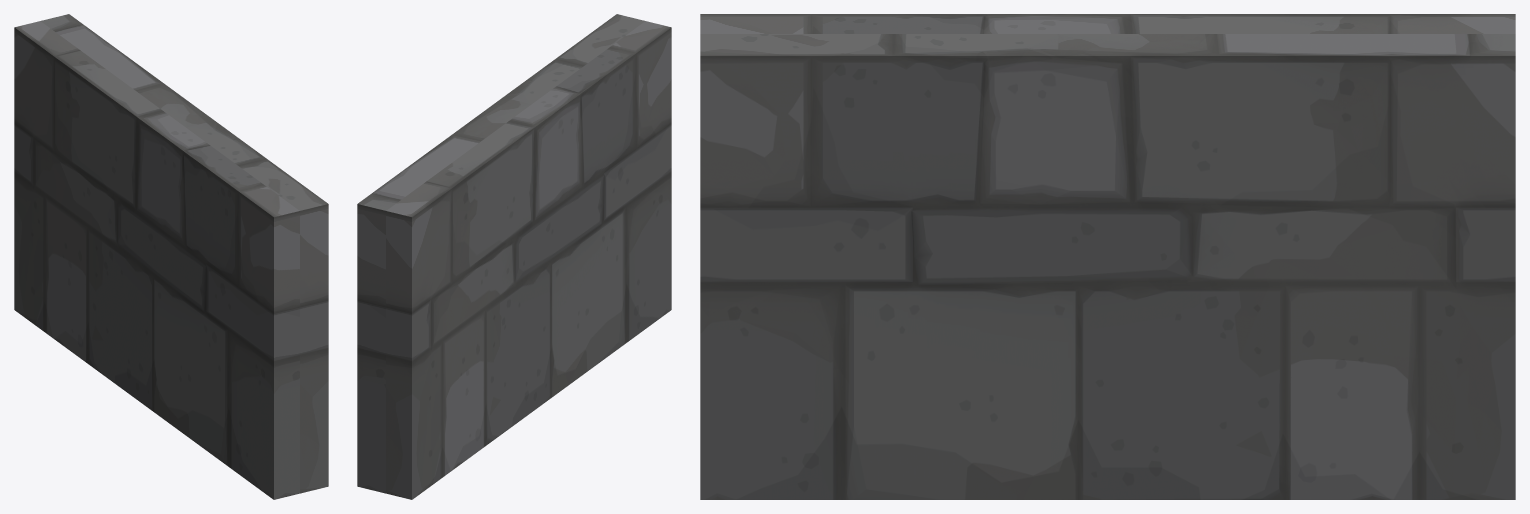
File: SM_Bld_Bridge_L_Pillar_01.fbx
The picture shows the model from 3 angles, left to right: view 1: azimuth 30°, elevation 25°; view 2: azimuth 150°, elevation 25°; view 3: azimuth 270°, elevation 25°; orthographic projection. The views are drawn at different scales.
Visible parts, largest first — view 1: SM_Bld_Bridge_L_Pillar_01; view 2: SM_Bld_Bridge_L_Pillar_01; view 3: SM_Bld_Bridge_L_Pillar_01.
Part boxes in pixels (x1=…): SM_Bld_Bridge_L_Pillar_01: x1=14, y1=14, x2=328, y2=499; SM_Bld_Bridge_L_Pillar_01: x1=357, y1=14, x2=671, y2=499; SM_Bld_Bridge_L_Pillar_01: x1=700, y1=14, x2=1515, y2=499.
Bounding box in the file's own units: 60.76 × 300 × 499.
1 material, 1 textured.
